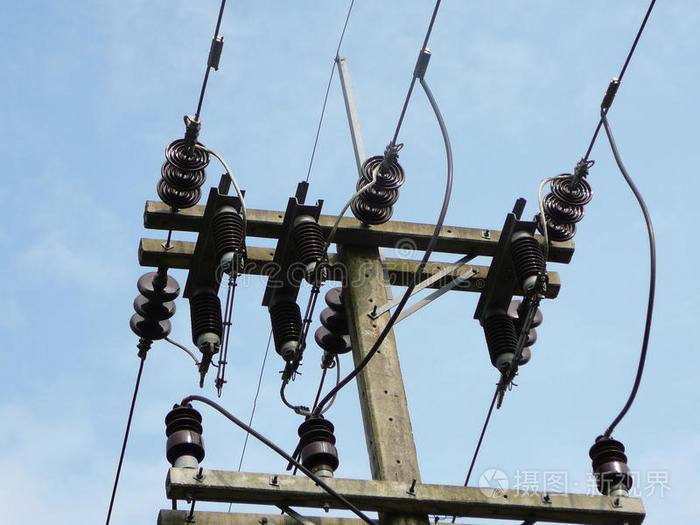insulator: (351, 154, 411, 224), (160, 136, 210, 205), (538, 177, 593, 239), (131, 269, 177, 340), (315, 287, 350, 357), (187, 292, 228, 339), (483, 311, 515, 364), (295, 227, 331, 267), (272, 302, 304, 347), (514, 241, 549, 281), (218, 215, 248, 261)
